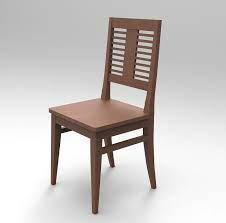chair: (37, 7, 181, 215)
